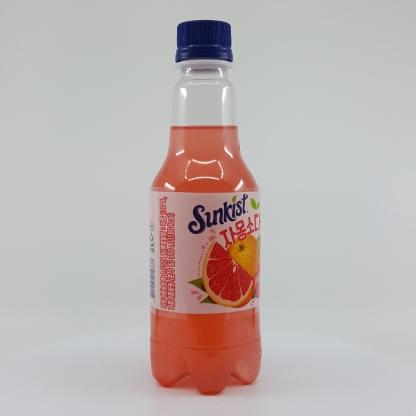----------350ML-PET-: (149, 20, 262, 395)
